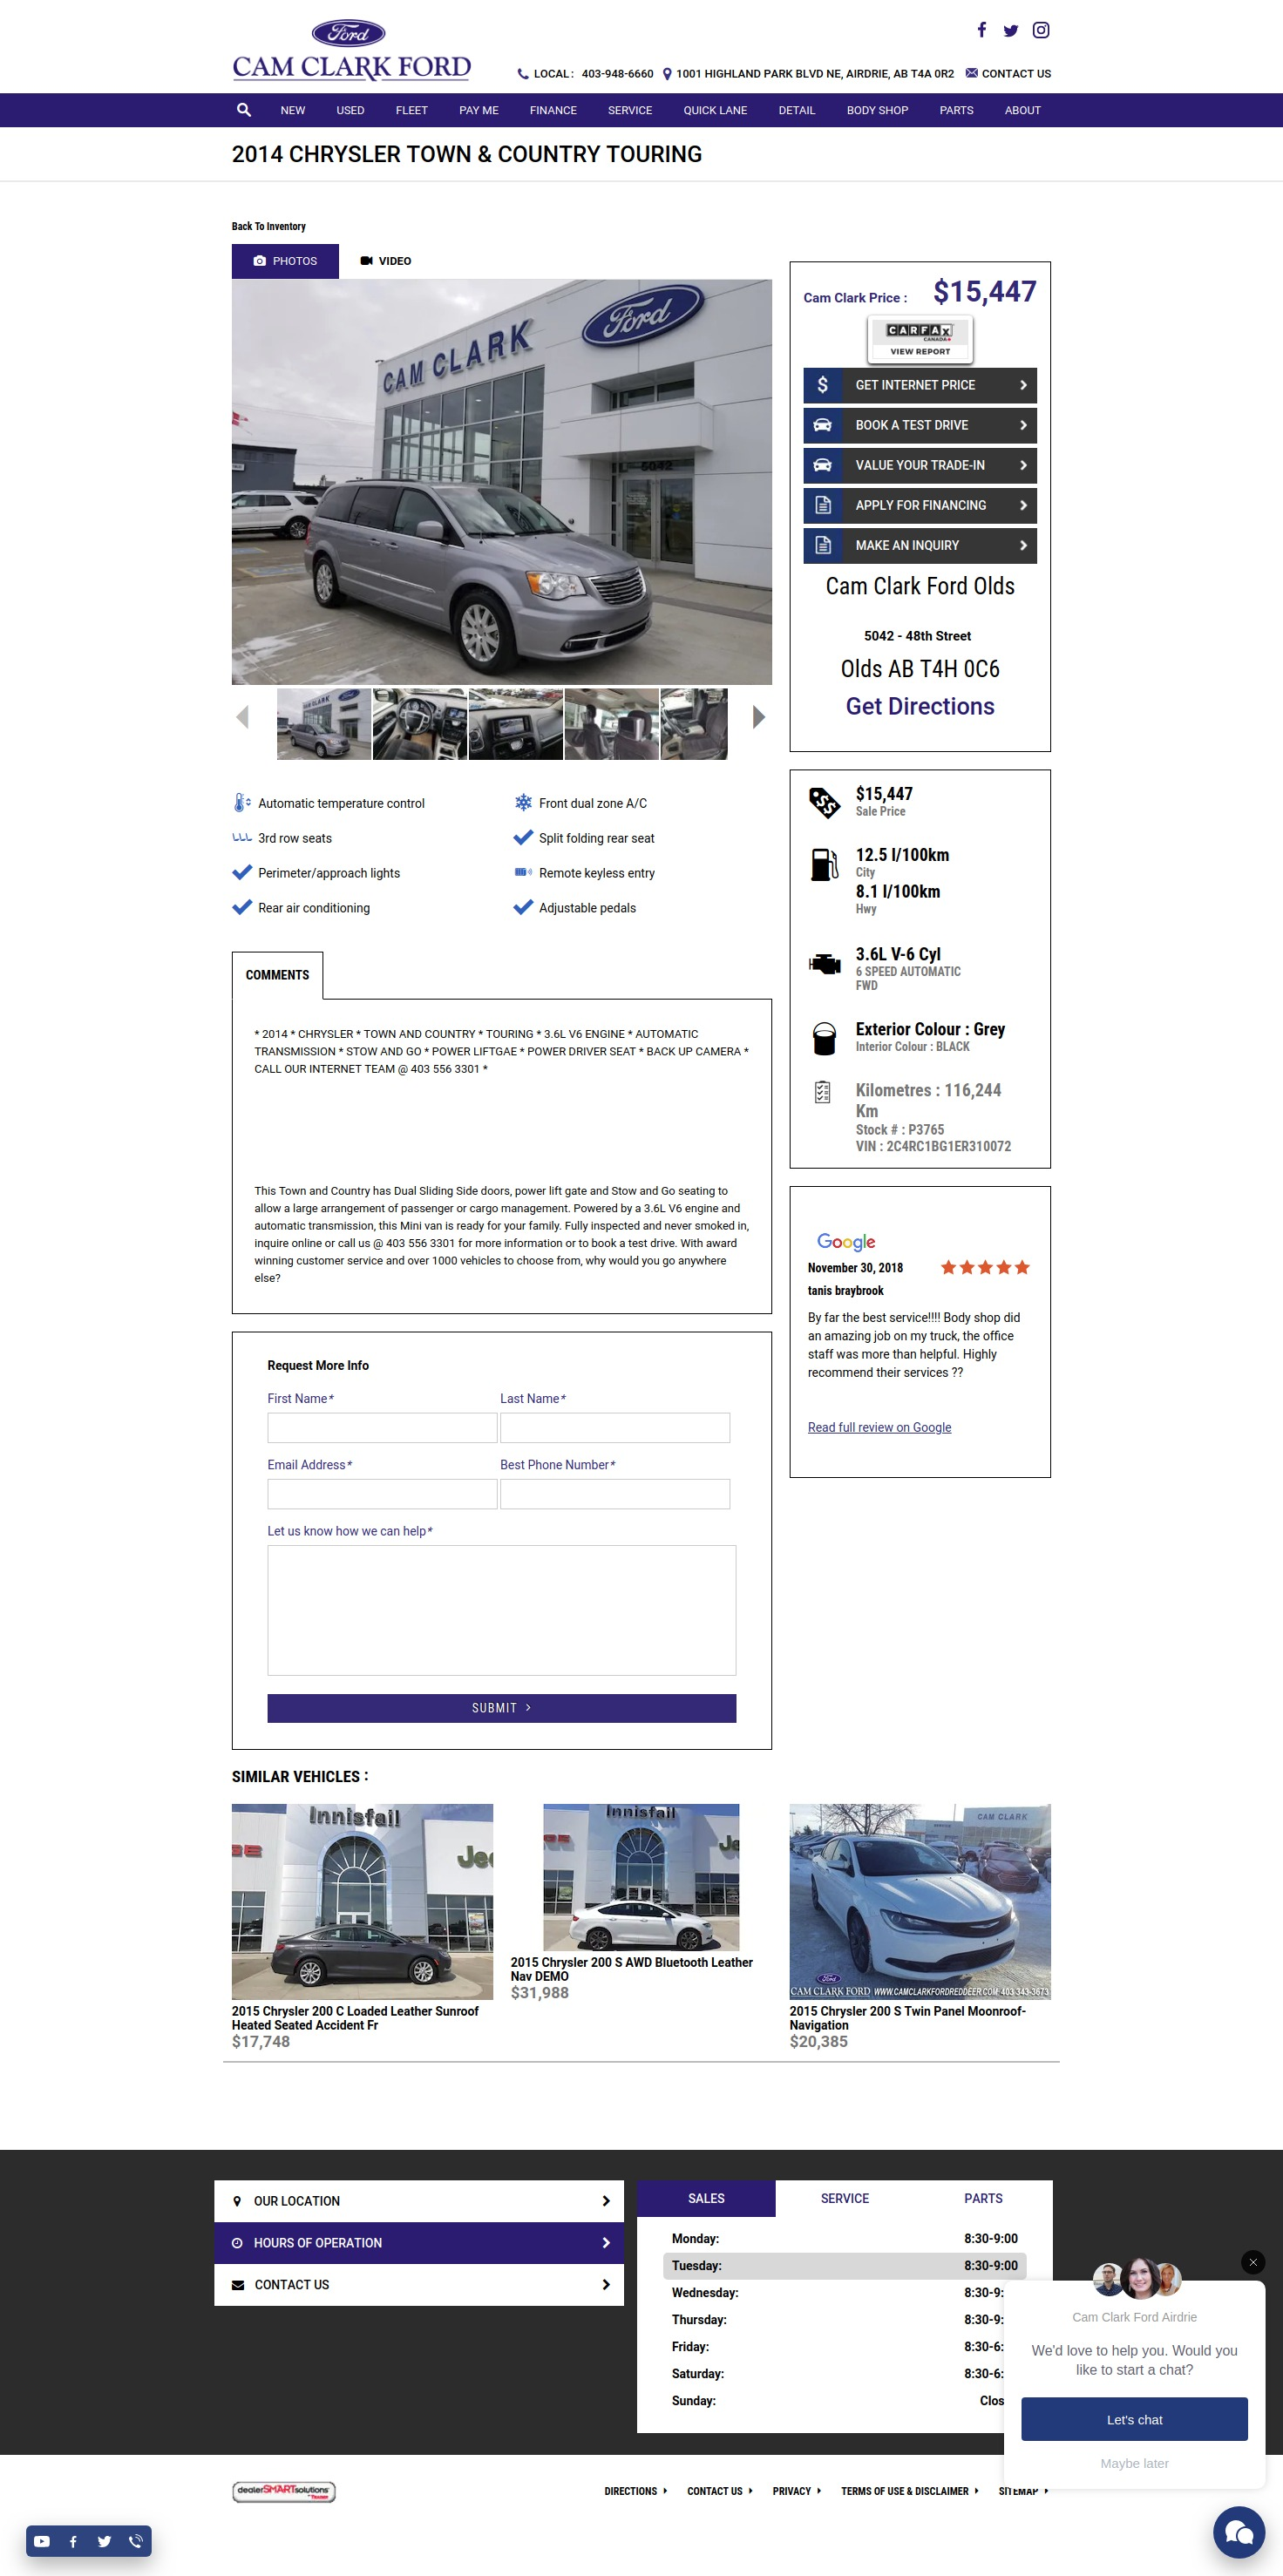car: (751, 703, 767, 733)
